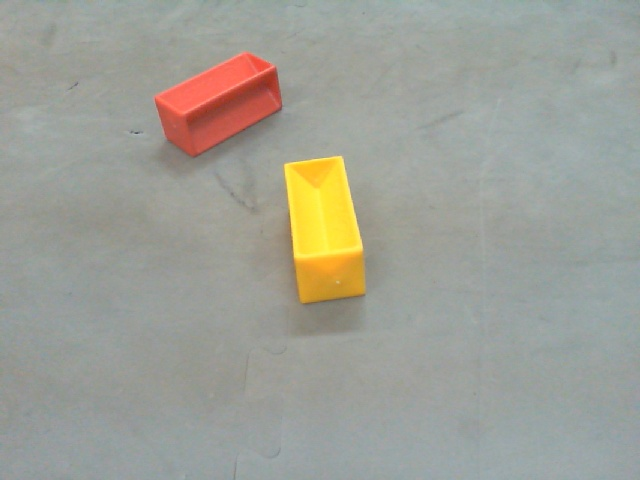RedSample: (152, 50, 285, 160)
YellowSample: (278, 153, 369, 305)
